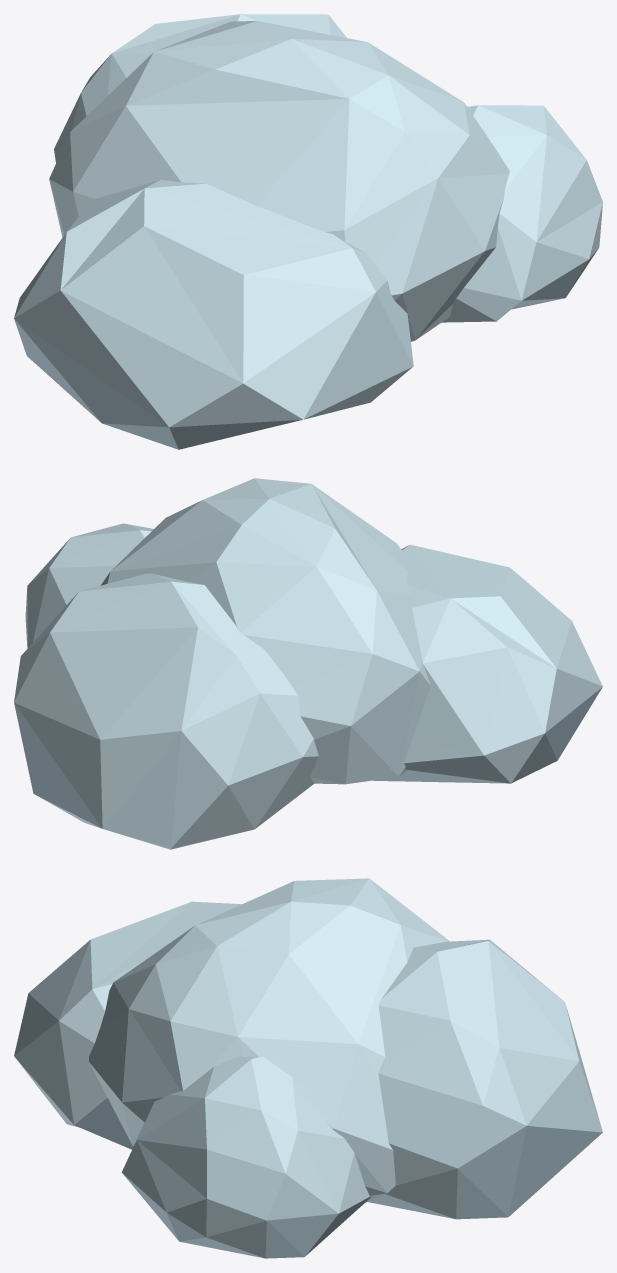
File: SM_Env_Cloud_07.fbx
3 renders of one model, top to bottom at view 1: azimuth 30°, elevation 25°; view 2: azimuth 150°, elevation 25°; view 3: azimuth 270°, elevation 25°, orthographic. The views are drawn at different scales.
Visible parts, largest first — view 1: SM_Env_Cloud_07; view 2: SM_Env_Cloud_07; view 3: SM_Env_Cloud_07.
Part boxes in pixels (box(x1,y1,x2,y2)): SM_Env_Cloud_07: box(14, 14, 602, 449); SM_Env_Cloud_07: box(14, 478, 602, 849); SM_Env_Cloud_07: box(14, 878, 602, 1258).
Bounding box in the file's own units: 0.0488 × 0.0244 × 0.0473.
Materials: 1 (1 with a texture image).
